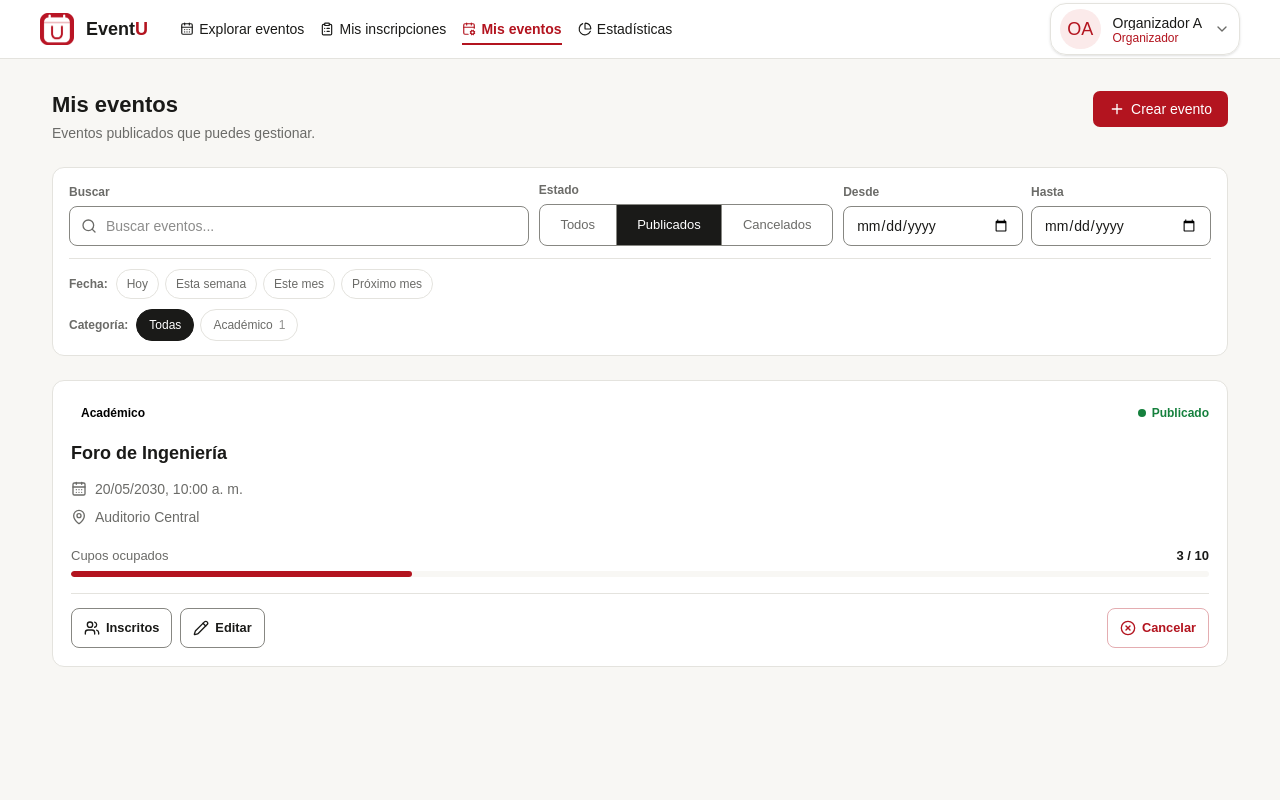
Test: Gestión de eventos del organizador (HU-05, HU-06, HU-07) › cancela un evento: confirma, muestra el mensaje y deja de listarlo
The image size is (1280, 800).
Click the button with aria-label "Cancelar evento Foro de Ingeniería": (1158, 628) x1=1107 y1=608 x2=1209 y2=648
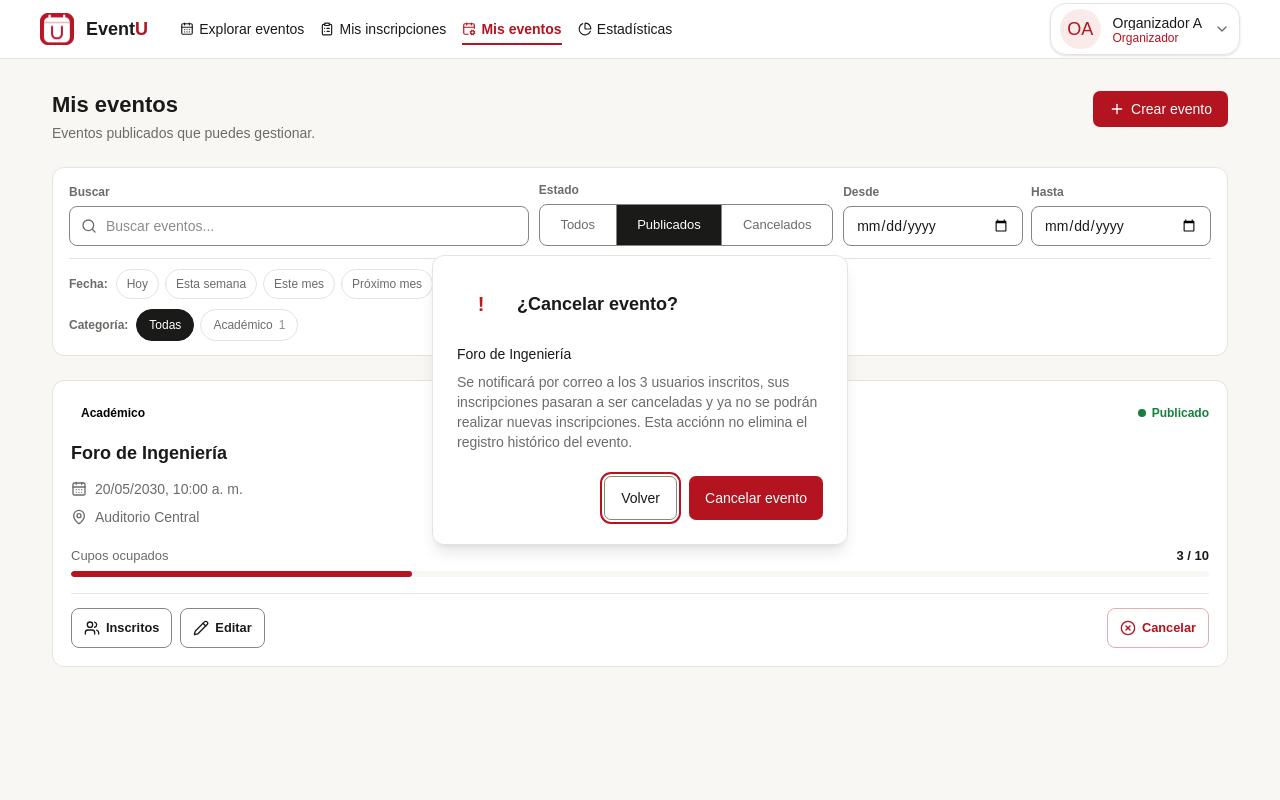
Check: the text "a los 3 usuarios inscritos" is shown, box x1=457 y1=374 x2=817 y2=450
Click the button "Cancelar evento": (756, 498) x1=689 y1=476 x2=823 y2=520
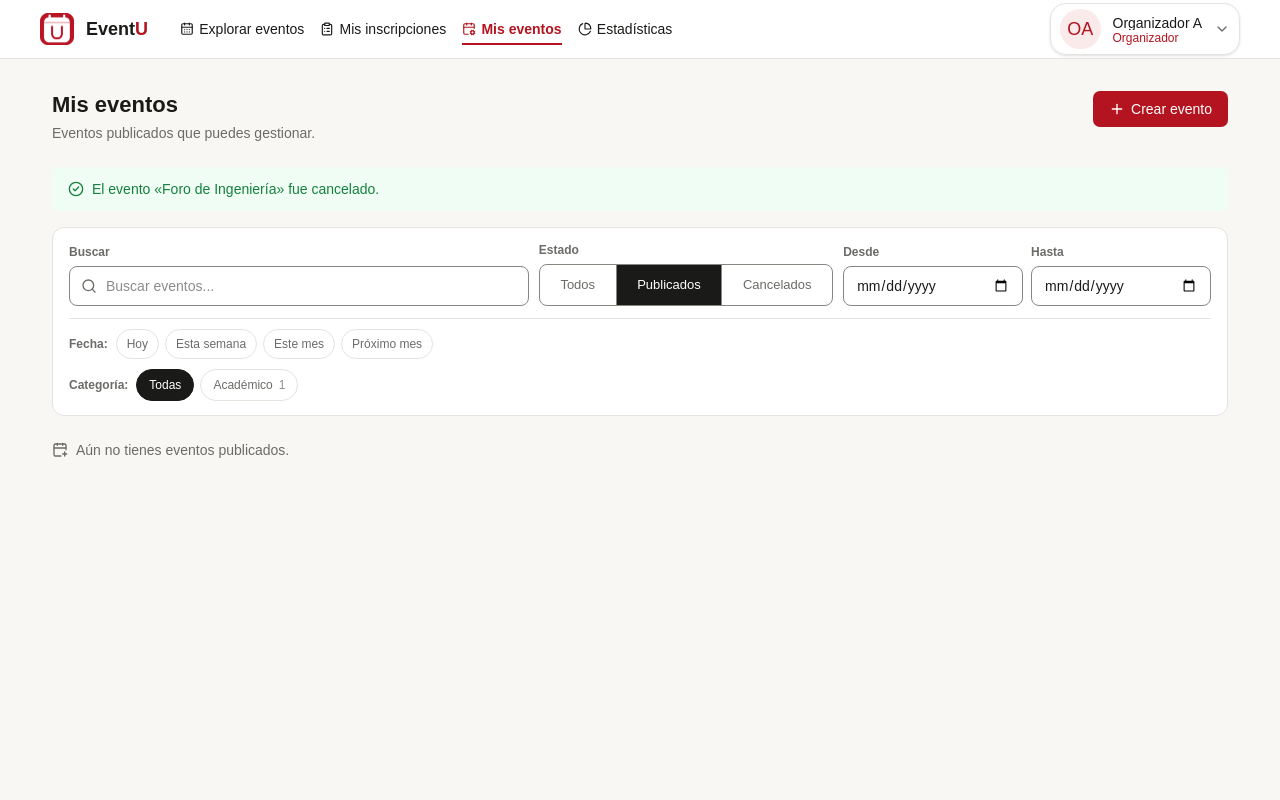
Check: the text "El evento «Foro de Ingeniería» fue cancelado." is shown, box x1=92 y1=179 x2=379 y2=199
